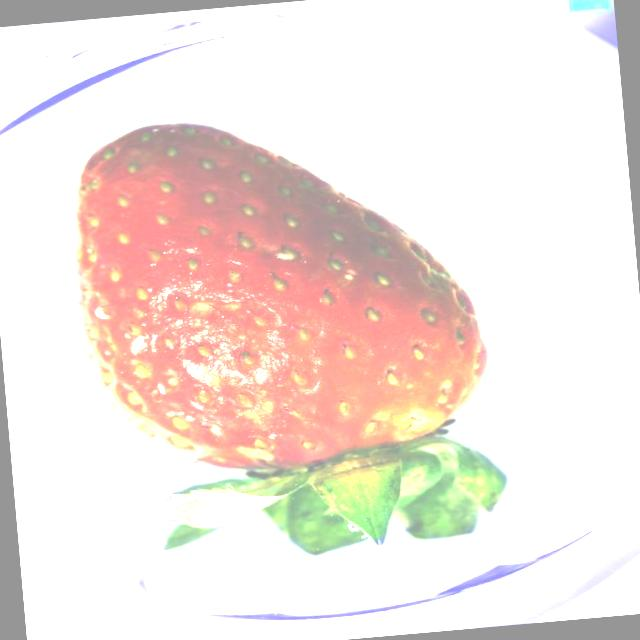Strawberry: (61, 96, 510, 574)
